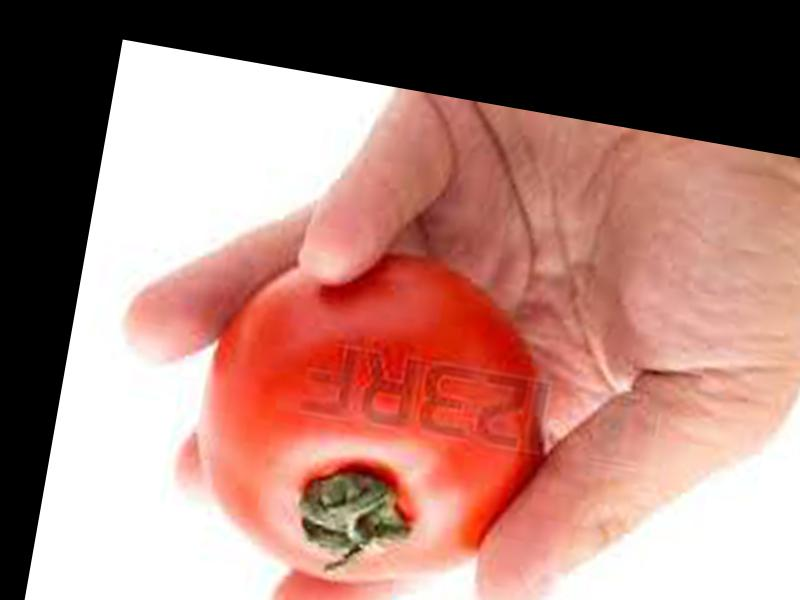Tomato: (174, 226, 568, 600)
